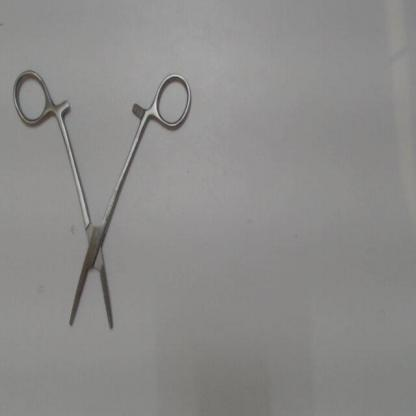Mayo Needle Holder: (7, 61, 196, 339)
